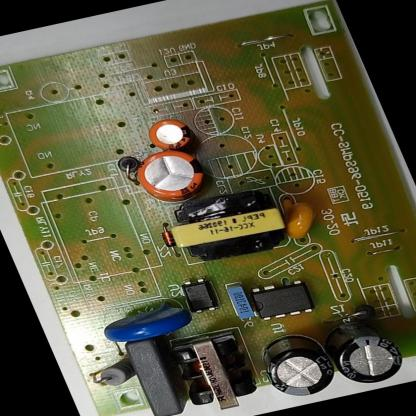Cap1: (120, 141, 225, 210)
Cap2: (137, 110, 207, 162)
Cap3: (245, 322, 349, 408)
Cap4: (318, 312, 416, 392)
MOSFET: (235, 273, 327, 328)
Mov: (86, 289, 206, 352)
Resistor: (81, 351, 143, 395)
Transformer: (148, 181, 301, 270), (155, 323, 269, 416)
